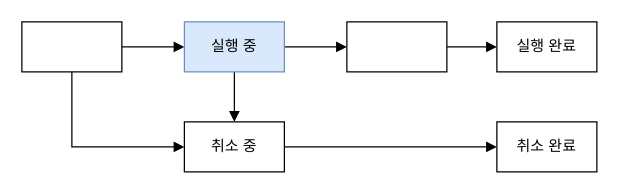
Image size: 619x194. Some labels were removed from this diagram. Each missing label, with the box of its shape:
생성: (21, 21, 122, 72)
실행 완료 중: (346, 21, 447, 72)
